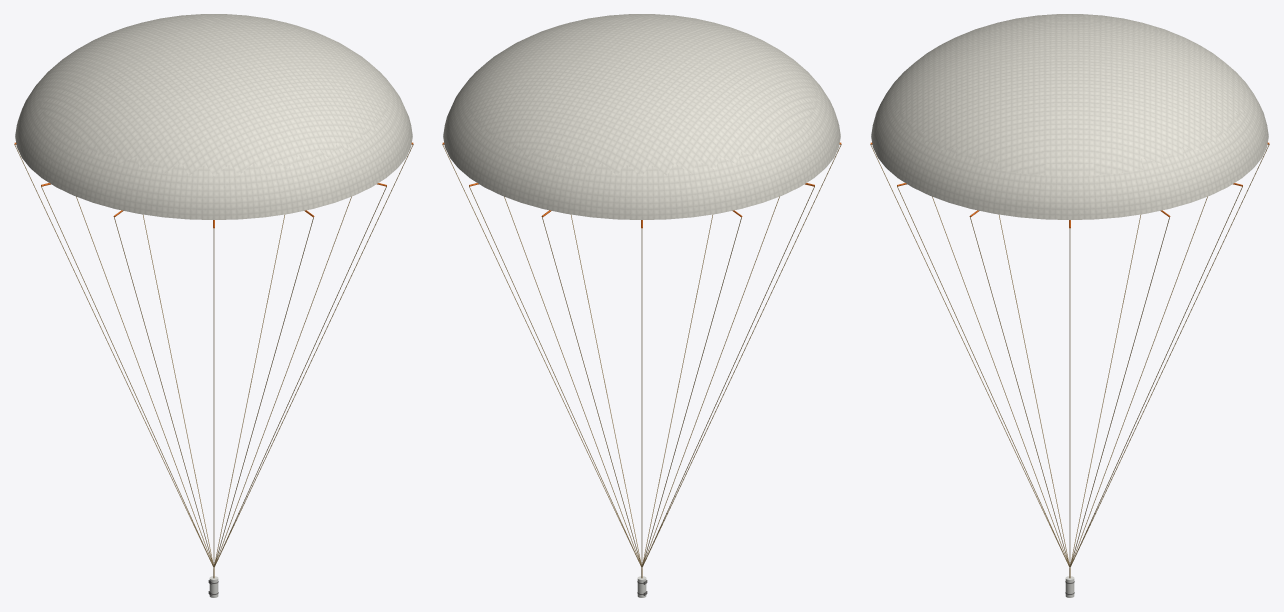
Rendered from stage17_radial_recovery_chute_s_deployed.glb.
3 views of the same model, side by side, from view 1: azimuth 30°, elevation 25°; view 2: azimuth 150°, elevation 25°; view 3: azimuth 270°, elevation 25° (orthographic).
Parts seen in each view (by area): view 1: canopy, riser_lines; view 2: canopy, riser_lines; view 3: canopy, riser_lines.
Boxes of the visible parts, x1,y1,x2,y2 form: canopy: (15, 14, 412, 219); riser_lines: (14, 144, 413, 578); canopy: (443, 14, 840, 219); riser_lines: (442, 144, 841, 578); canopy: (871, 14, 1268, 219); riser_lines: (870, 144, 1269, 578).
Bounding box in the file's own units: 18.02 × 27.45 × 18.03.
5 materials, 2 textured.
